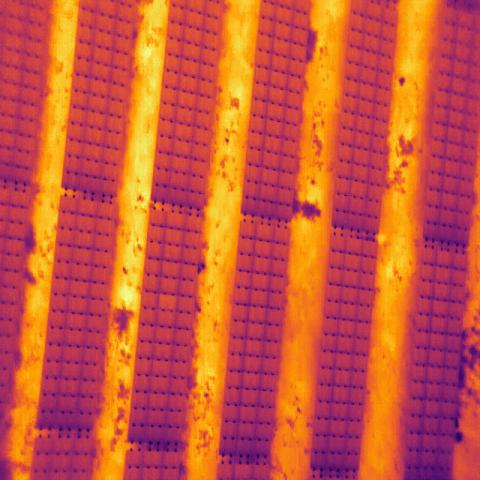fault: (157, 293, 178, 311)
